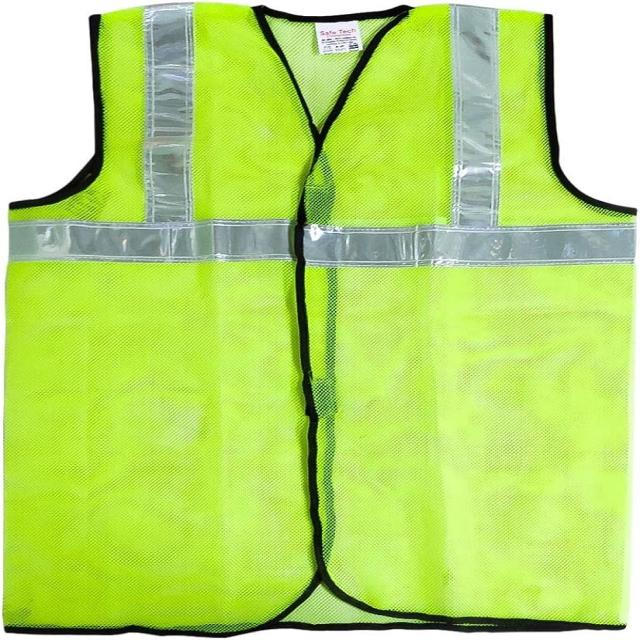safety_helmet: (6, 0, 634, 630)
